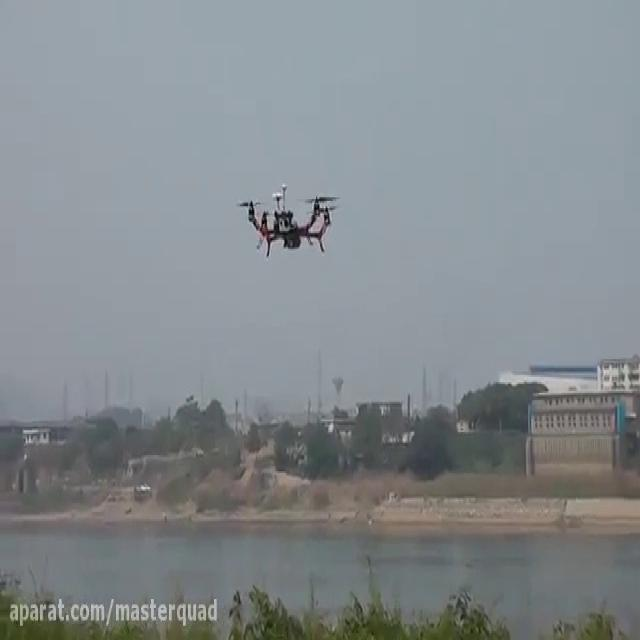drone: (232, 172, 343, 262)
